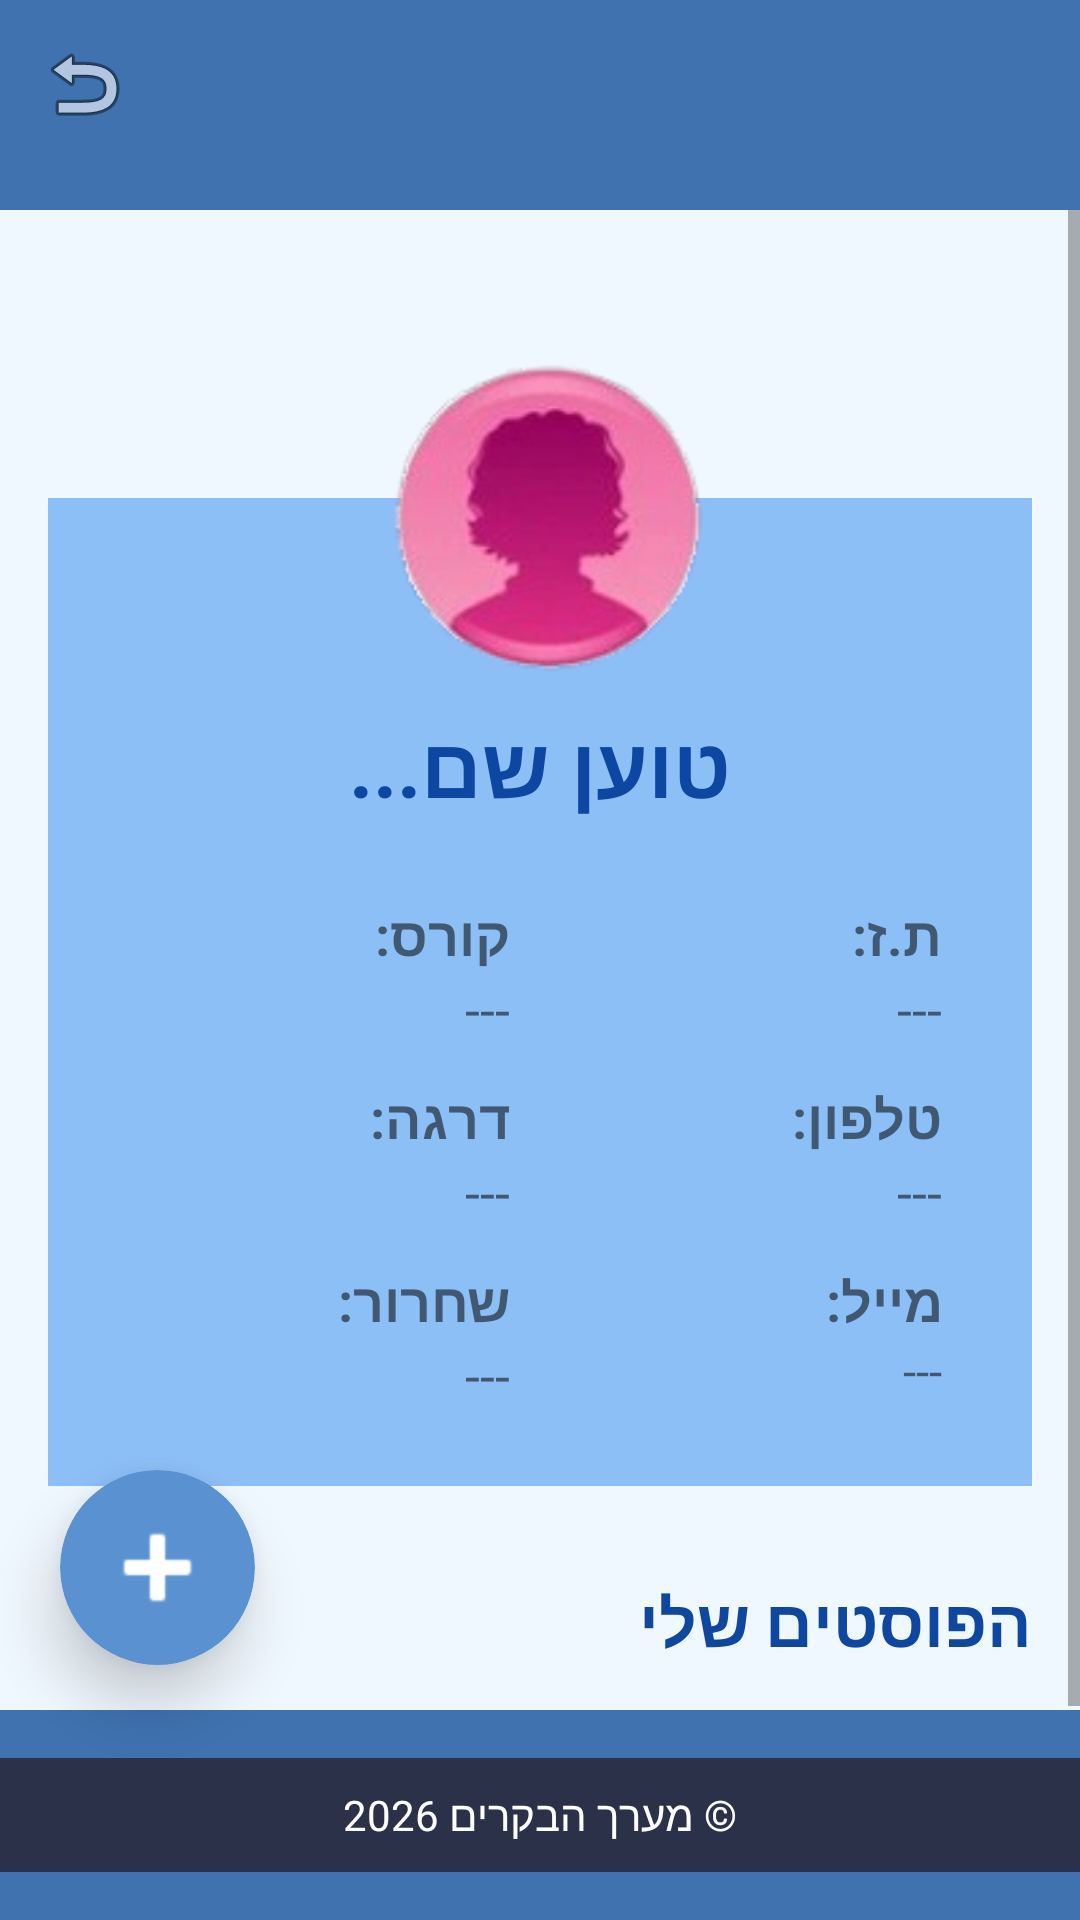

Named icons in this screenshot (1080×1920) and their centers, point (x, y):
add: point (157, 1567)
